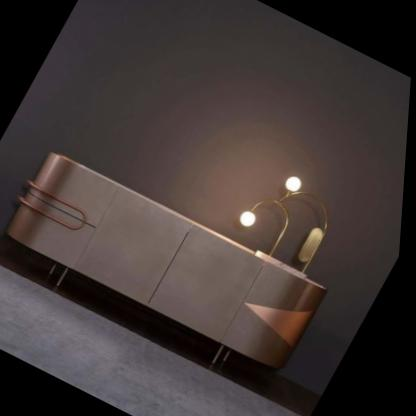Sideboard: (7, 153, 332, 376)
